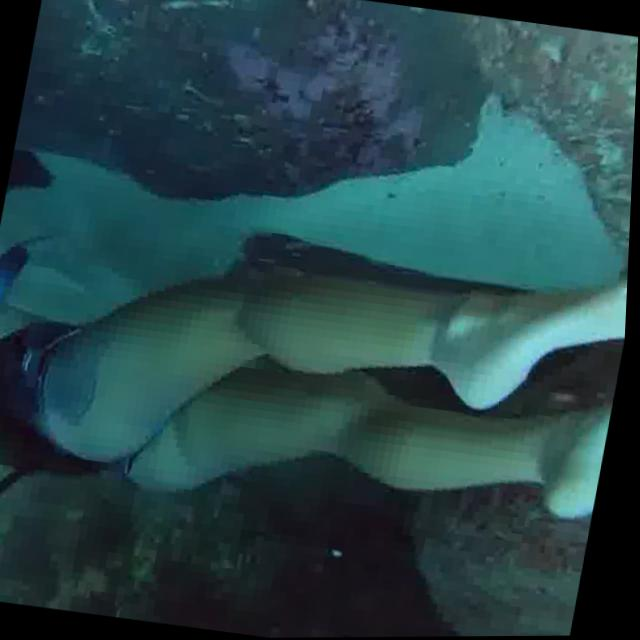human: (0, 168, 634, 587)
